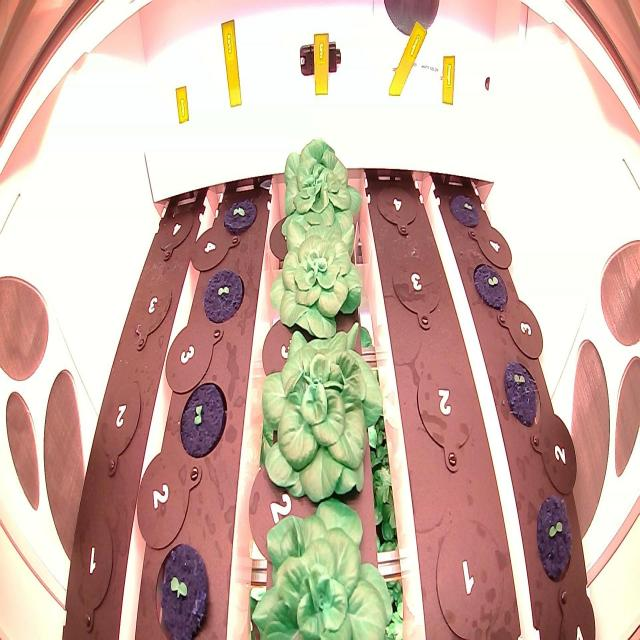empty_pod: (427, 510, 511, 640), (409, 344, 476, 471), (64, 519, 122, 631), (90, 375, 148, 475), (388, 236, 445, 333), (128, 268, 175, 353), (371, 172, 424, 235), (153, 201, 198, 266)
germination: (149, 534, 224, 639), (171, 371, 234, 464), (532, 489, 580, 587), (195, 261, 249, 330), (501, 354, 546, 432), (222, 181, 264, 247), (470, 255, 514, 315), (446, 180, 485, 233)
young: (254, 305, 386, 512), (244, 485, 397, 640), (266, 212, 366, 347), (270, 134, 368, 250)
